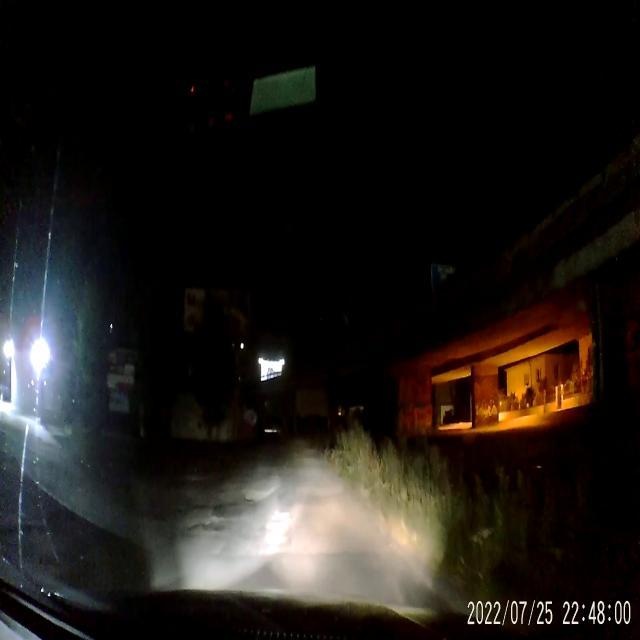Manhole: (201, 520, 226, 536)
Pothole: (214, 498, 258, 516), (187, 520, 201, 534), (192, 502, 214, 510)
